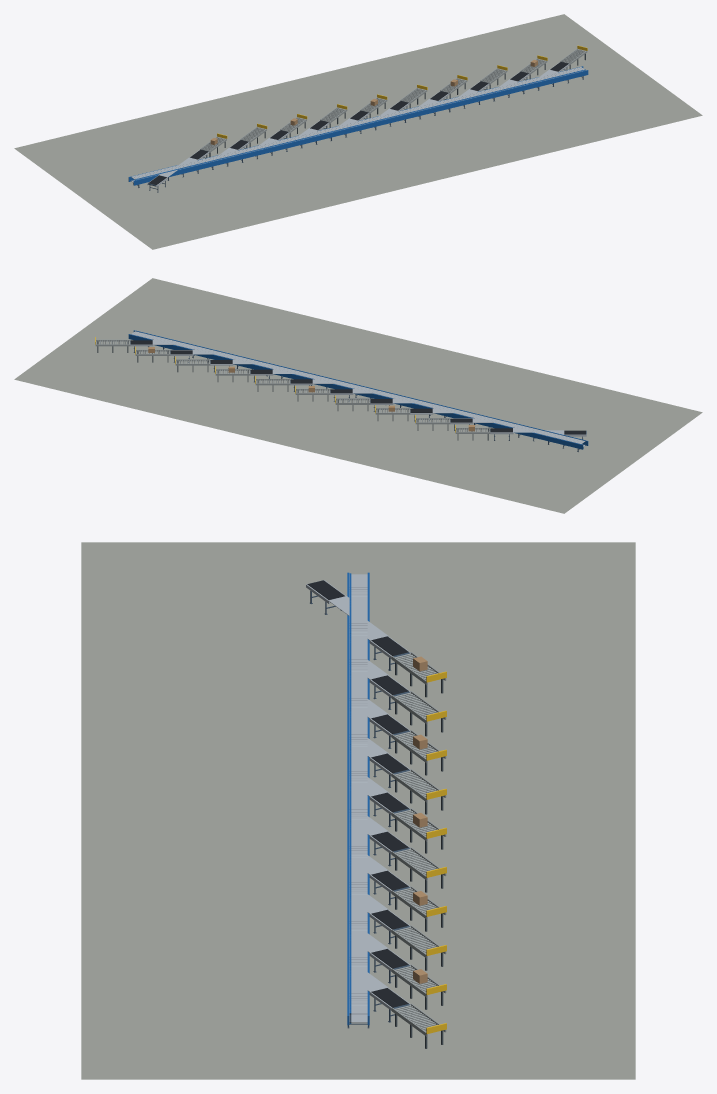
3 views of the same model, one above another, from view 1: azimuth 30°, elevation 25°; view 2: azimuth 150°, elevation 25°; view 3: azimuth 270°, elevation 25° (orthographic). The views are drawn at different scales.
Visible parts, largest first — view 1: Studio ground, chain-cover--1, Instances: shoe_slat-6f3e93946094, Angled accumulation rollers, Angled accumulation side rails, Instances: sliding_shoe-97580c5e1415, End stops; view 2: Studio ground, Instances: shoe_slat-6f3e93946094, chain-cover-1, Angled accumulation side rails, Angled accumulation rollers, Instances: sliding_shoe-97580c5e1415, Angled accumulation legs; view 3: Studio ground, Instances: shoe_slat-6f3e93946094, Angled accumulation rollers, Angled accumulation side rails, Angled accumulation legs, End stops, Instances: sliding_shoe-97580c5e1415, chain-cover--1, Accumulated sample parcels, chain-cover-1.
Boxes of the visible parts, <box> form: Studio ground: <box>14,14,702,249</box>; chain-cover--1: <box>133,70,588,185</box>; Instances: shoe_slat-6f3e93946094: <box>131,67,585,182</box>; Angled accumulation rollers: <box>201,49,585,151</box>; Angled accumulation side rails: <box>200,48,587,152</box>; Instances: sliding_shoe-97580c5e1415: <box>135,69,585,179</box>; End stops: <box>217,45,587,138</box>; Studio ground: <box>14,278,702,513</box>; Instances: shoe_slat-6f3e93946094: <box>131,331,585,446</box>; chain-cover-1: <box>128,334,583,449</box>; Angled accumulation side rails: <box>95,339,490,433</box>; Angled accumulation rollers: <box>96,340,489,431</box>; Instances: sliding_shoe-97580c5e1415: <box>135,330,585,441</box>; Angled accumulation legs: <box>97,341,488,440</box>; Studio ground: <box>81,542,635,1079</box>; Instances: shoe_slat-6f3e93946094: <box>349,574,367,1022</box>; Angled accumulation rollers: <box>395,653,437,1031</box>; Angled accumulation side rails: <box>392,652,446,1036</box>; Angled accumulation legs: <box>395,662,443,1048</box>; End stops: <box>426,671,446,1033</box>; Instances: sliding_shoe-97580c5e1415: <box>349,573,351,1014</box>; chain-cover--1: <box>347,572,349,1025</box>; Accumulated sample parcels: <box>413,656,427,983</box>; chain-cover-1: <box>367,572,369,1025</box>.
Size of the model in its own units: 55 by 1.21 by 24.
